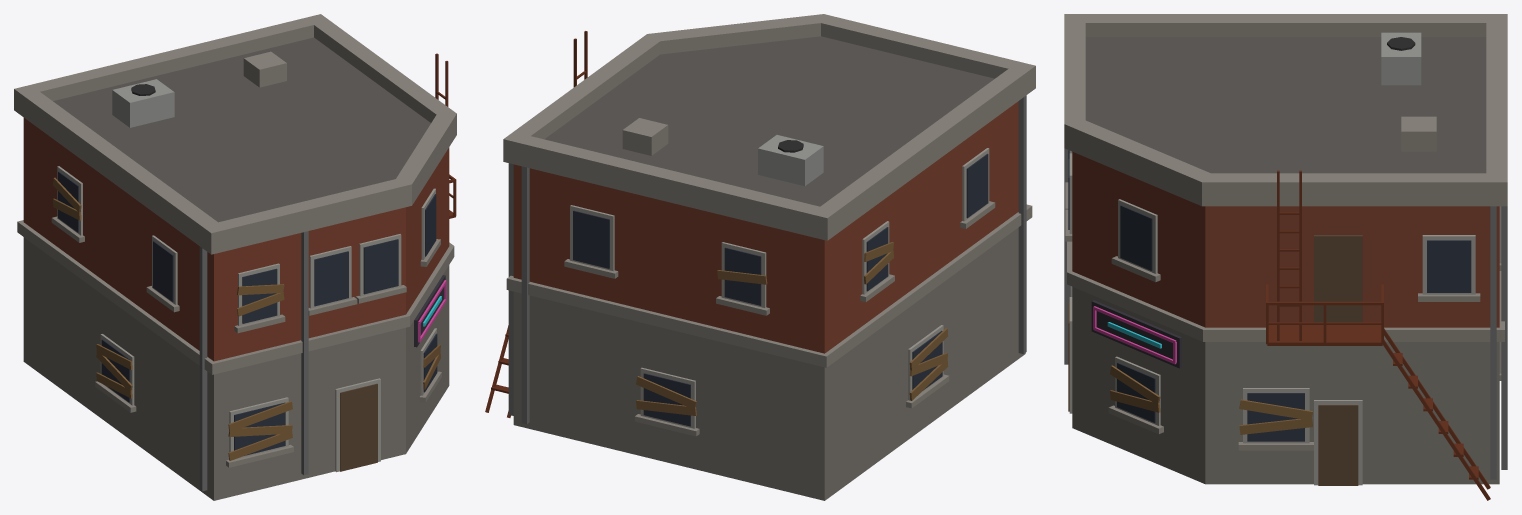
The model's file is quartier_coin.glb.
3 renders of one model, left to right at view 1: azimuth 30°, elevation 25°; view 2: azimuth 150°, elevation 25°; view 3: azimuth 270°, elevation 25°, orthographic. The views are drawn at different scales.
Visible parts, largest first — view 1: quartier_coin; view 2: quartier_coin; view 3: quartier_coin.
Part boxes in pixels (x1,y1,x2,y2): quartier_coin: (14,14,456,500); quartier_coin: (485,14,1035,500); quartier_coin: (1064,14,1507,500).
Bounding box in the file's own units: 9.8 × 8.2 × 10.
